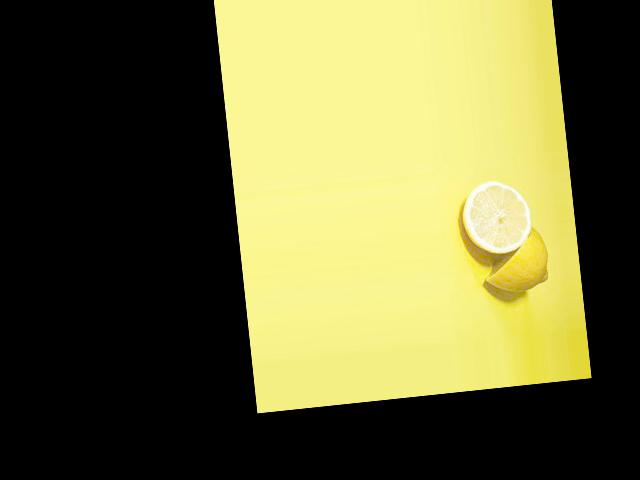lemon: (470, 222, 555, 295)
